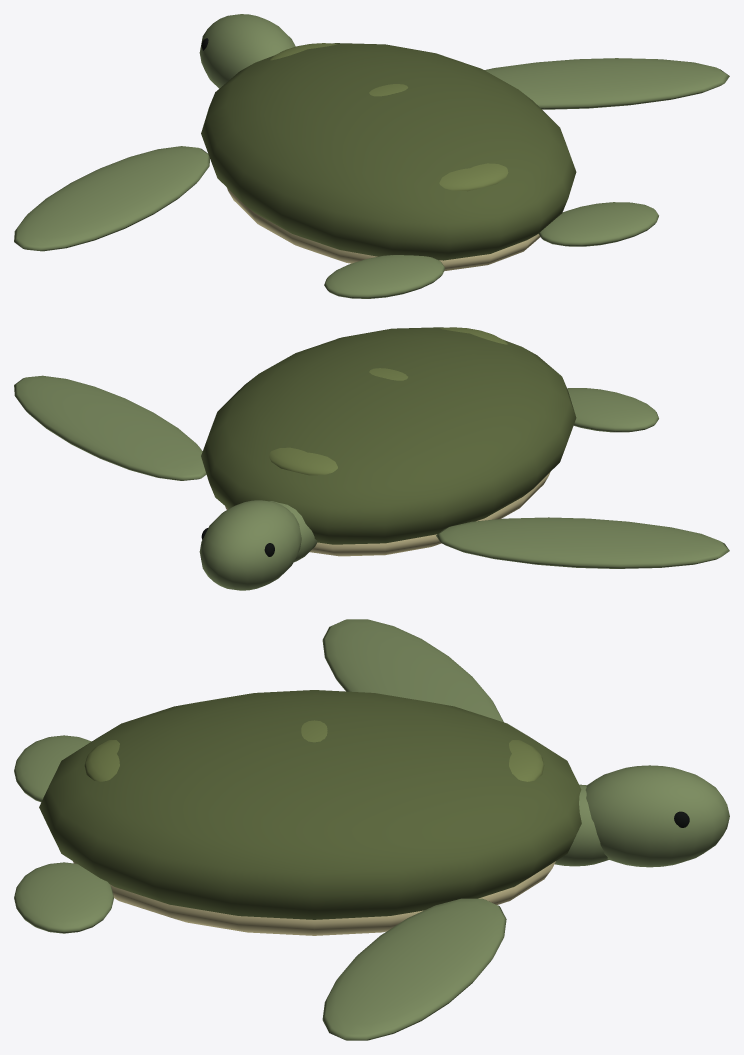
File: turtle.glb
The picture shows the model from 3 angles, top to bottom: view 1: azimuth 30°, elevation 25°; view 2: azimuth 150°, elevation 25°; view 3: azimuth 270°, elevation 25°; orthographic projection. The views are drawn at different scales.
Visible parts, largest first — view 1: Shell, FrontFlipper (×2), NeckAssembly, Plastron, ScuteAssembly; view 2: Shell, FrontFlipper (×2), NeckAssembly, Plastron, ScuteAssembly; view 3: Shell, FrontFlipper (×2), NeckAssembly, Plastron, ScuteAssembly.
Part boxes in pixels (bbox=[...]): Shell: bbox=[201, 43, 576, 260]; FrontFlipper (×2): bbox=[14, 58, 729, 251]; NeckAssembly: bbox=[199, 14, 658, 298]; Plastron: bbox=[227, 188, 540, 271]; ScuteAssembly: bbox=[269, 43, 508, 191]; Shell: bbox=[201, 327, 576, 544]; FrontFlipper (×2): bbox=[14, 375, 729, 568]; NeckAssembly: bbox=[199, 338, 658, 590]; Plastron: bbox=[225, 472, 550, 556]; ScuteAssembly: bbox=[269, 327, 507, 475]; Shell: bbox=[39, 690, 581, 919]; FrontFlipper (×2): bbox=[322, 619, 506, 1040]; NeckAssembly: bbox=[14, 735, 729, 933]; Plastron: bbox=[73, 861, 555, 935]; ScuteAssembly: bbox=[84, 720, 544, 781].
Bounding box in the file's own units: 1.98 × 0.35 × 1.43.
